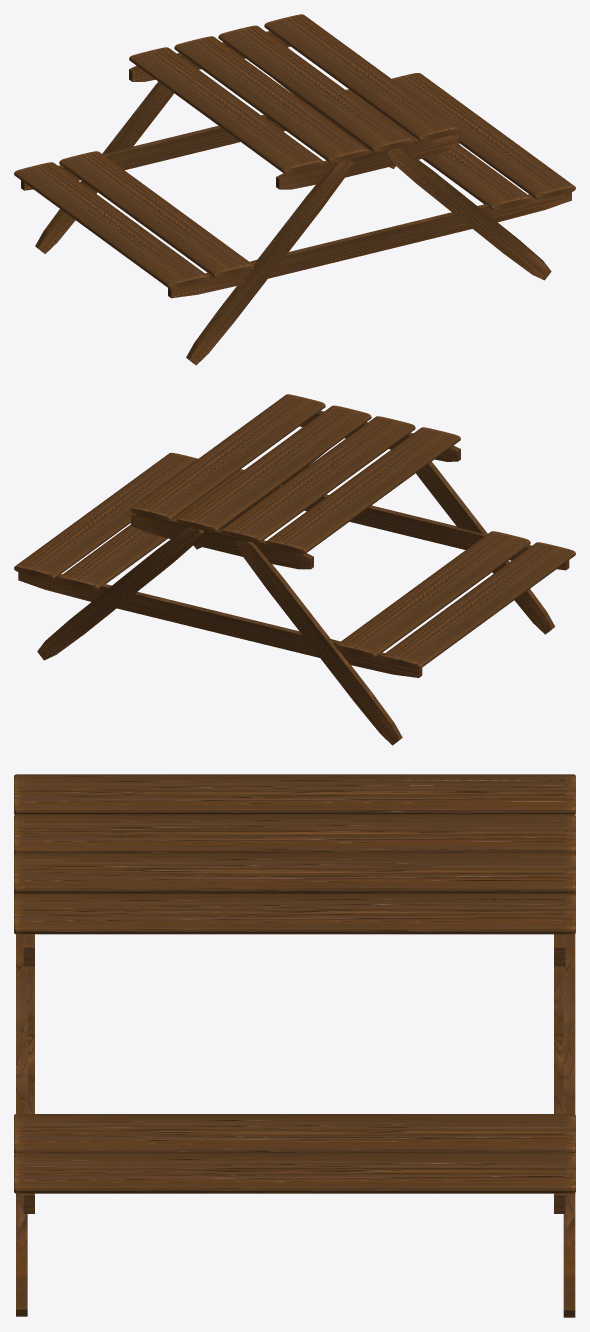
The model's file is bench.fbx.
3 renders of one model, top to bottom at view 1: azimuth 30°, elevation 25°; view 2: azimuth 150°, elevation 25°; view 3: azimuth 270°, elevation 25°, orthographic. The views are drawn at different scales.
Visible parts, largest first — view 1: Cube.005, Cube.009, Cube.012, Cube.010, Cube.011, Cube.004, Cube.008, Cube, Cube.016, Cube.003, Cube.001, Cube.006 (+3 smaller); view 2: Cube.012, Cube.011, Cube.009, Cube.010, Cube.005, Cube.004, Cube.006, Cube, Cube.015, Cube.014, Cube.001, Cube.008 (+3 smaller); view 3: Cube.012, Cube, Cube.009, Cube.011, Cube.001, Cube.010, Cube.014, Cube.003, Cube.006, Cube.008.
Boxes of the visible parts, x1,y1,x2,y2 form: Cube.005: (14,162,208,289); Cube.009: (218,25,413,152); Cube.012: (264,14,459,141); Cube.010: (174,36,369,163); Cube.011: (129,47,324,174); Cube.004: (59,151,254,278); Cube.008: (168,192,571,298); Cube: (392,73,575,199); Cube.016: (186,159,353,365); Cube.003: (385,147,551,280); Cube.001: (346,89,531,210); Cube.006: (21,104,329,190); Cube.012: (130,394,325,521); Cube.011: (265,427,460,554); Cube.009: (176,405,371,532); Cube.010: (220,416,415,543); Cube.005: (381,542,575,669); Cube.004: (335,531,530,658); Cube.006: (18,572,422,677); Cube: (14,452,197,579); Cube.015: (235,539,402,745); Cube.014: (37,527,203,660); Cube.001: (58,469,243,590); Cube.008: (260,484,569,570); Cube.012: (14,893,575,934); Cube: (14,1152,575,1193); Cube.009: (14,853,575,893); Cube.011: (14,774,575,814); Cube.001: (14,1114,575,1153); Cube.010: (14,814,575,853); Cube.014: (563,893,575,1317); Cube.003: (16,934,27,1316); Cube.006: (554,966,565,1213); Cube.008: (23,966,34,1213).
Bounding box in the file's own units: 458 × 188 × 303.
Materials: 1 (1 with a texture image).
